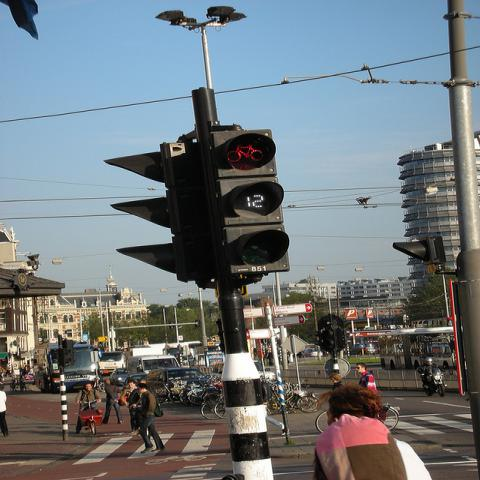bus: (378, 326, 456, 372), (32, 343, 102, 394)
car: (144, 367, 212, 392), (253, 360, 277, 382), (122, 373, 150, 390), (108, 368, 128, 385), (297, 348, 323, 358)
motorcycle: (423, 367, 447, 397)
truck: (127, 355, 180, 376)
